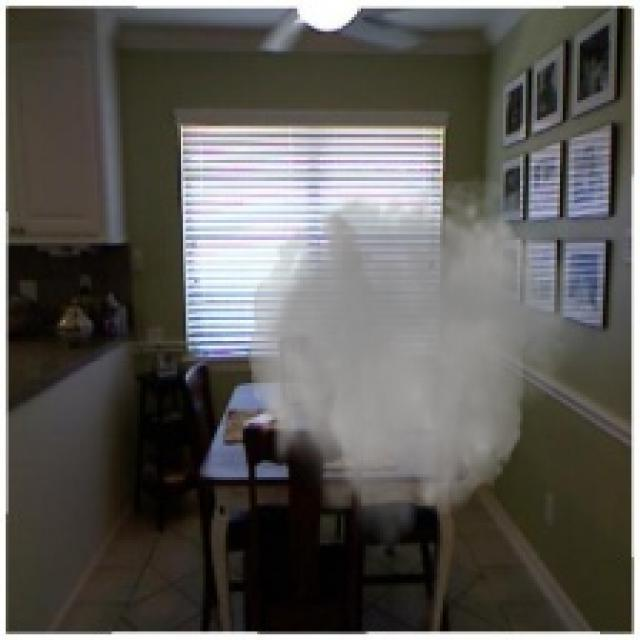smoke: (240, 160, 591, 560)
